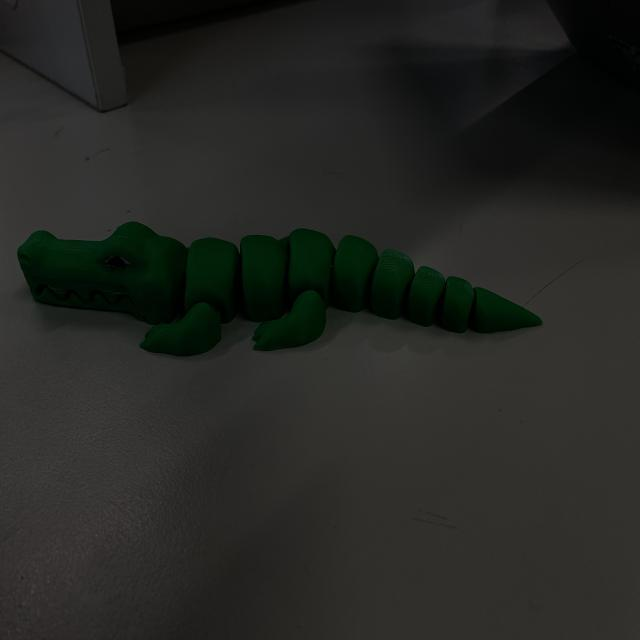crocodile: (8, 210, 554, 374)
